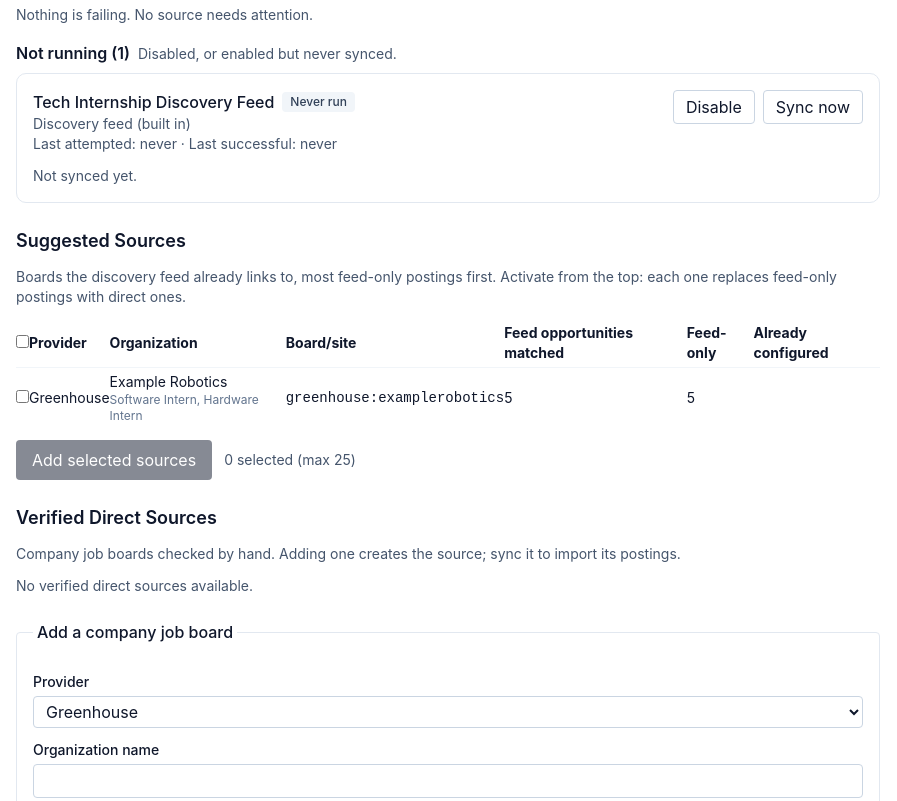
Test: source coverage › shows a 422 error from the add endpoint
(page scrolled)
Click the checkbox named "Select greenhouse:examplerobotics" at (22, 396), box left=16, top=390, right=29, bottom=403
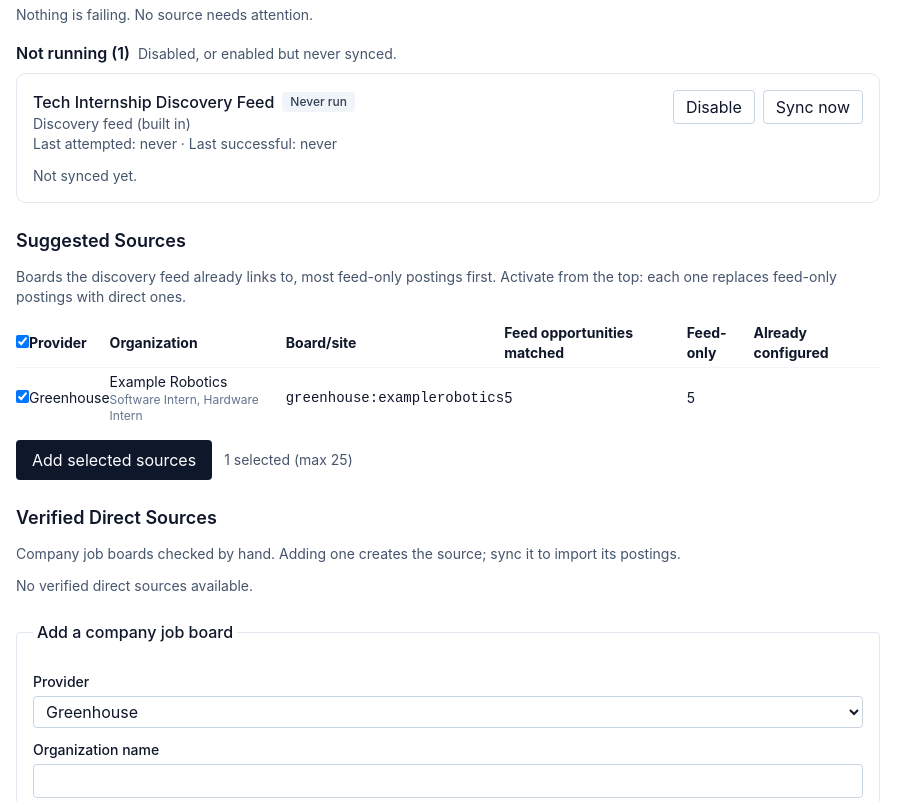
Click the button "Add selected sources" at (114, 460), box left=16, top=440, right=212, bottom=480
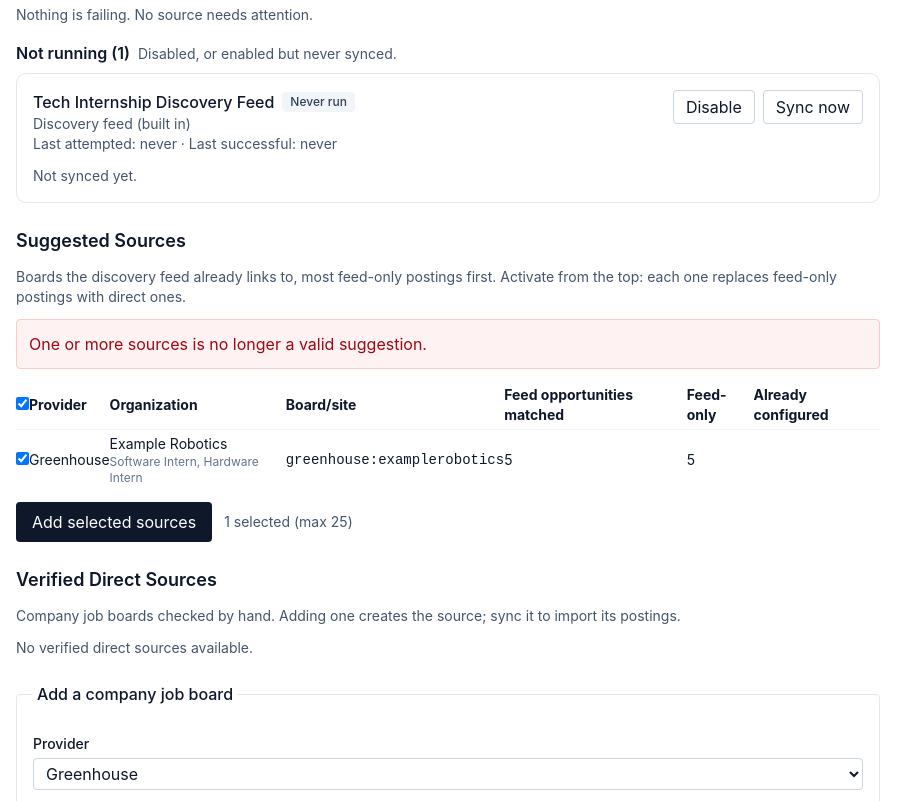
Now the message reads "One or more sources is no longer a valid suggestion.", box left=29, top=334, right=427, bottom=354
